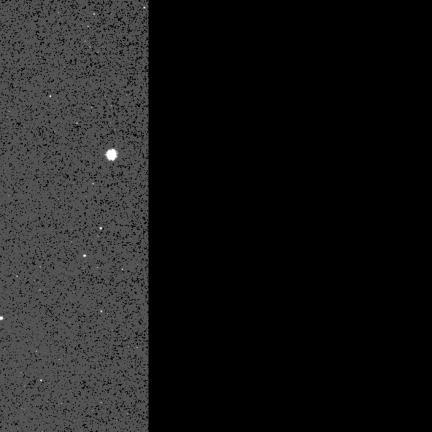blob: (0, 316, 3, 320), (84, 255, 87, 258)
